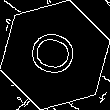O_E: (25, 28, 85, 82)
